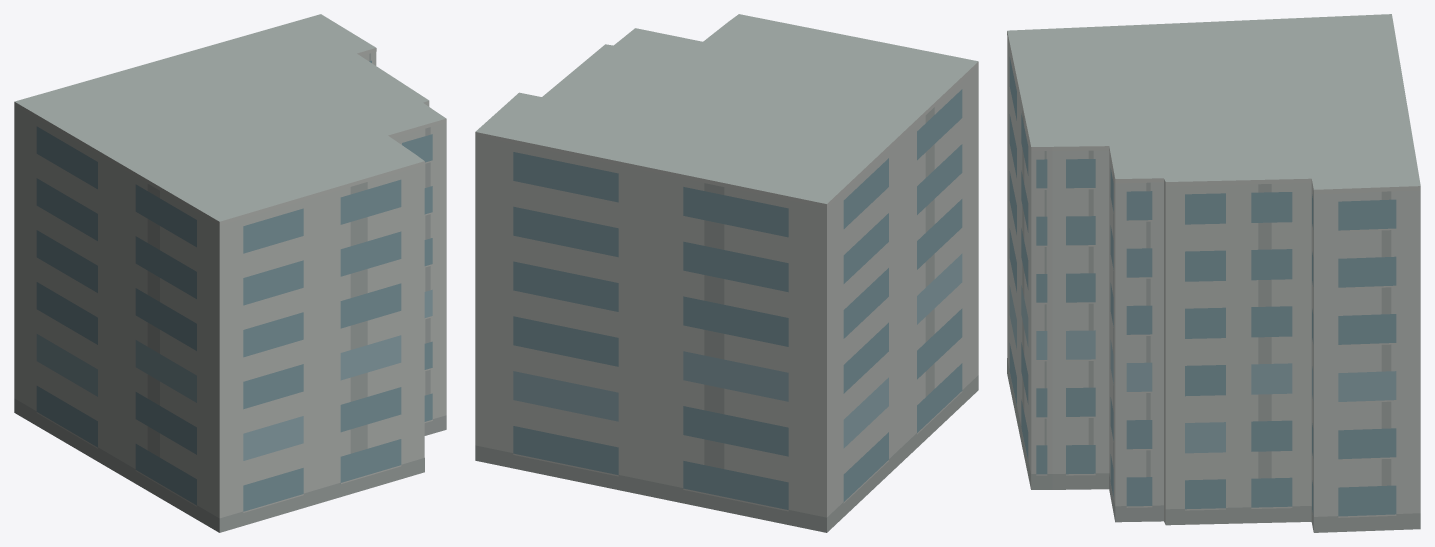
Rendered from survey-upis-32772710.glb.
The picture shows the model from 3 angles, left to right: view 1: azimuth 30°, elevation 25°; view 2: azimuth 150°, elevation 25°; view 3: azimuth 270°, elevation 25°; orthographic projection. The views are drawn at different scales.
Visible parts, largest first — view 1: survey-upis-32772710.tmp; view 2: survey-upis-32772710.tmp; view 3: survey-upis-32772710.tmp.
Boxes of the visible parts, left/top/right/bottom form: survey-upis-32772710.tmp: left=14, top=14, right=446, bottom=532; survey-upis-32772710.tmp: left=475, top=14, right=978, bottom=532; survey-upis-32772710.tmp: left=1007, top=14, right=1420, bottom=532.
Bounding box in the file's own units: 21.55 × 19.6 × 21.43.
